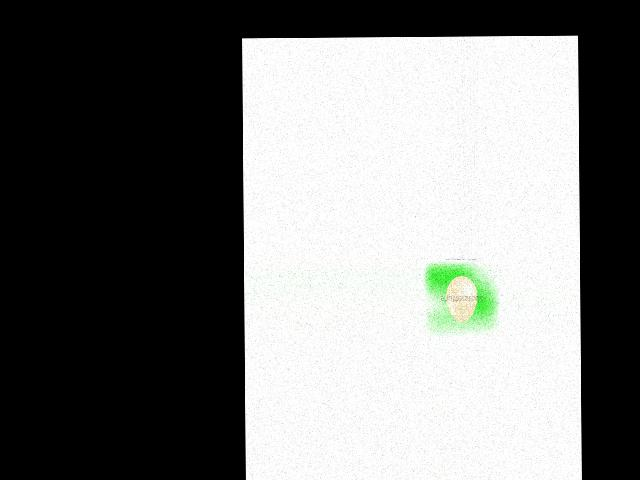egg: (446, 276, 477, 322)
